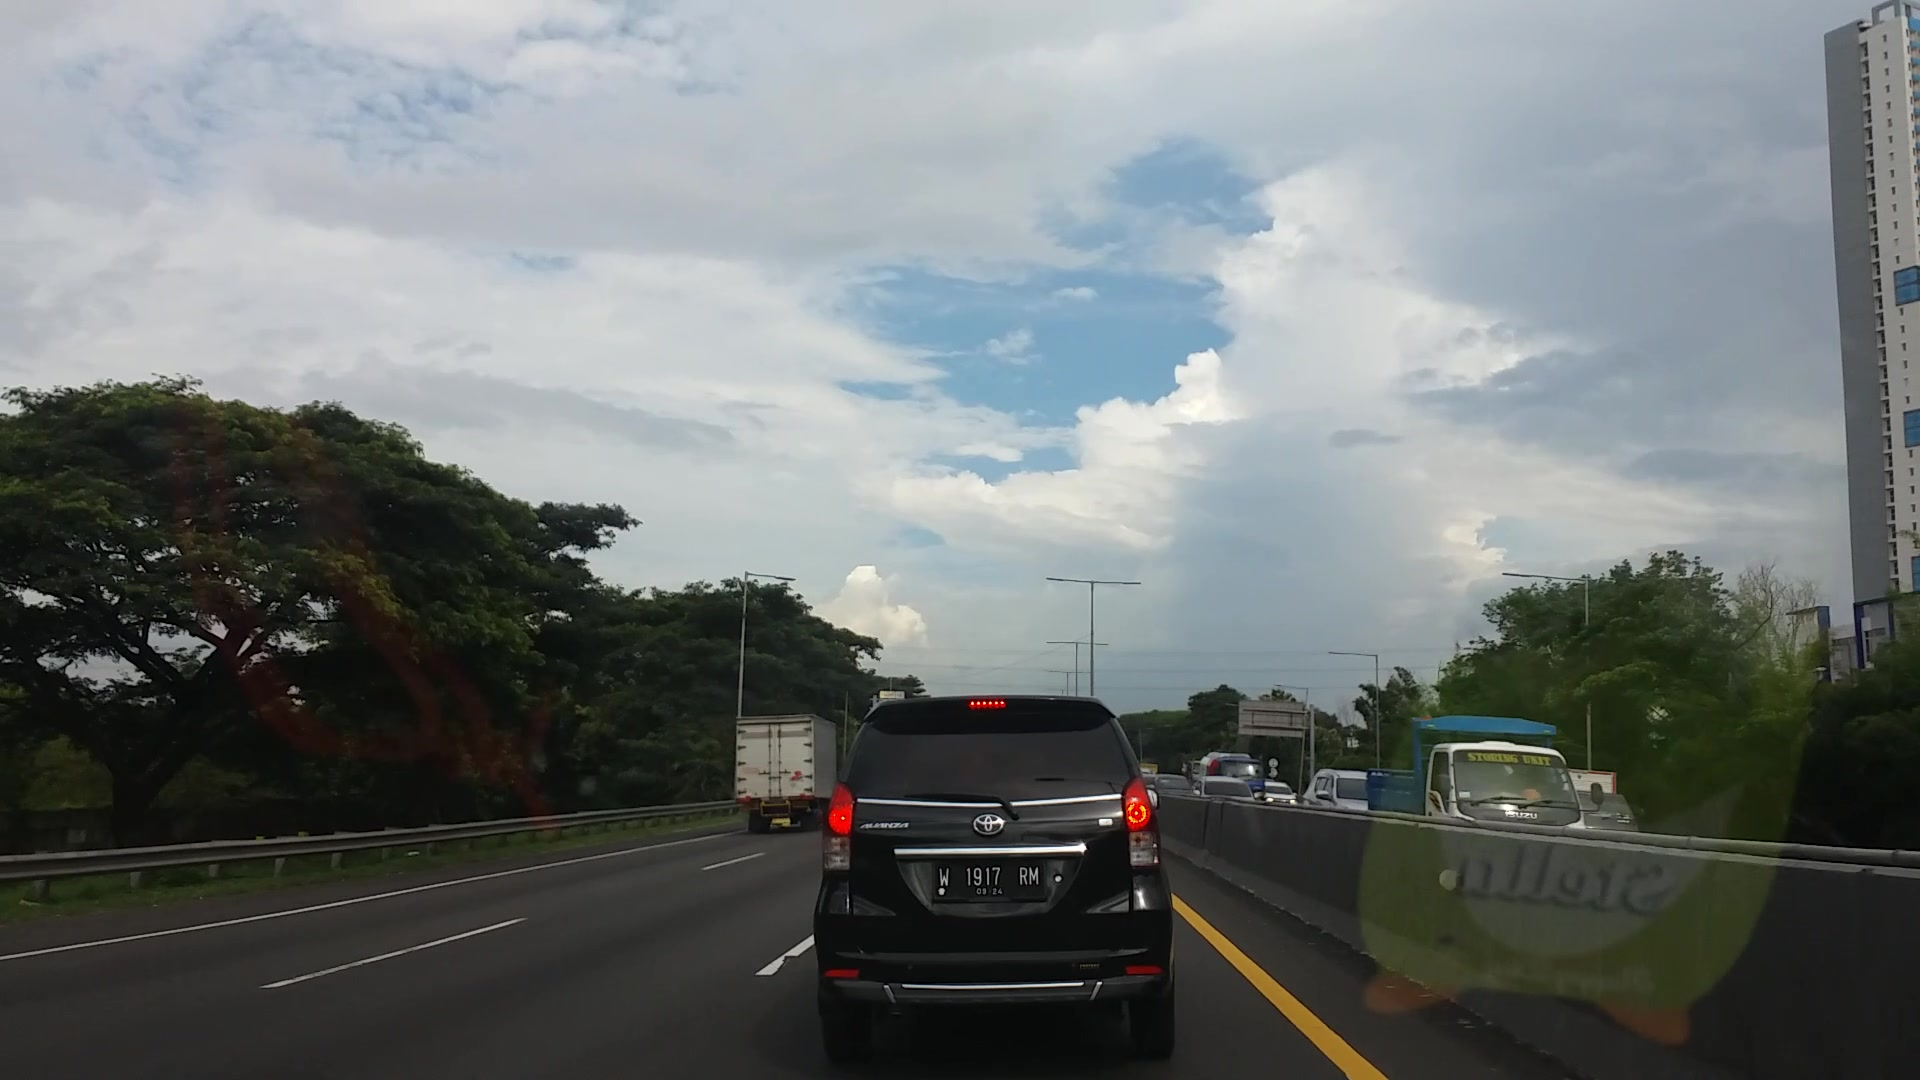plate_positive: (934, 858, 1048, 902)
